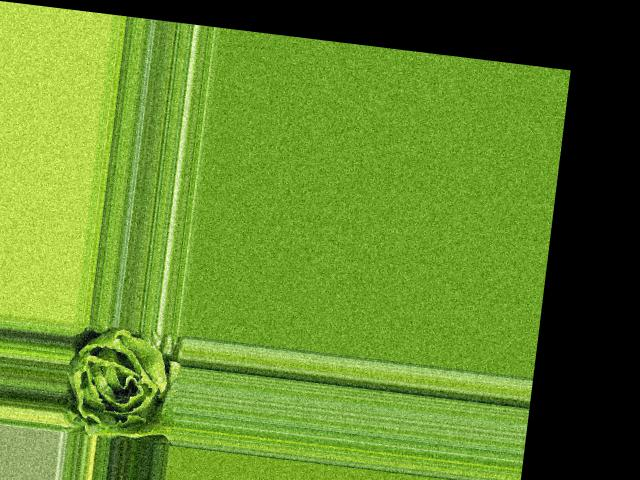lettuce: (62, 323, 184, 444)
